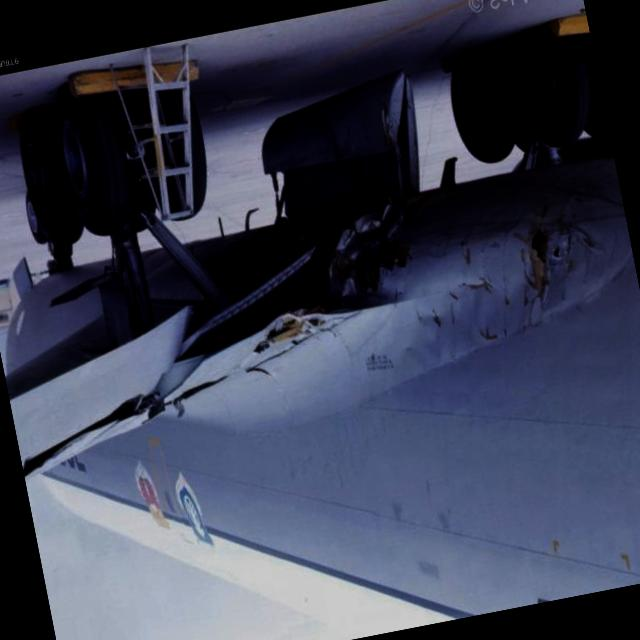dent: (445, 240, 536, 340), (402, 302, 452, 370)
